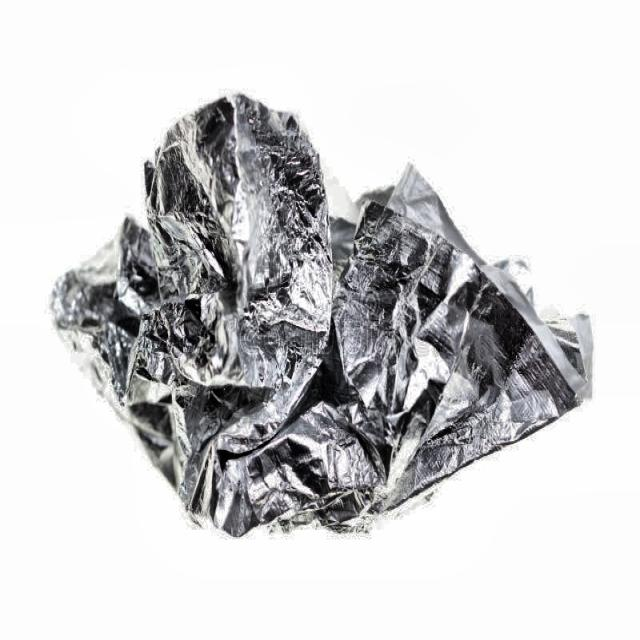Foil: (42, 74, 610, 562)
